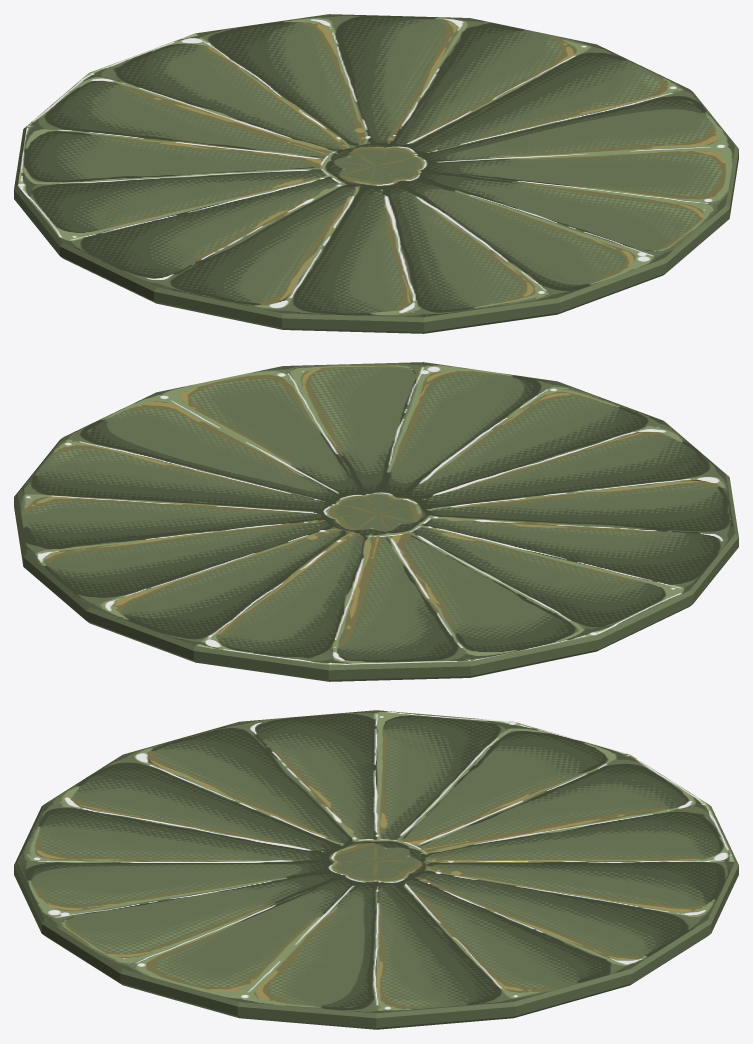
Rendered from GreenLilyPads-mockup003.fbx.
3 renders of one model, top to bottom at view 1: azimuth 30°, elevation 25°; view 2: azimuth 150°, elevation 25°; view 3: azimuth 270°, elevation 25°, orthographic.
Visible parts, largest first — view 1: Cylinder.002; view 2: Cylinder.002; view 3: Cylinder.002.
Part boxes in pixels (x1=…): Cylinder.002: x1=14, y1=14, x2=738, y2=333; Cylinder.002: x1=14, y1=362, x2=738, y2=681; Cylinder.002: x1=14, y1=710, x2=738, y2=1029.
Size of the model in its own units: 4000 by 99.46 by 4000.
